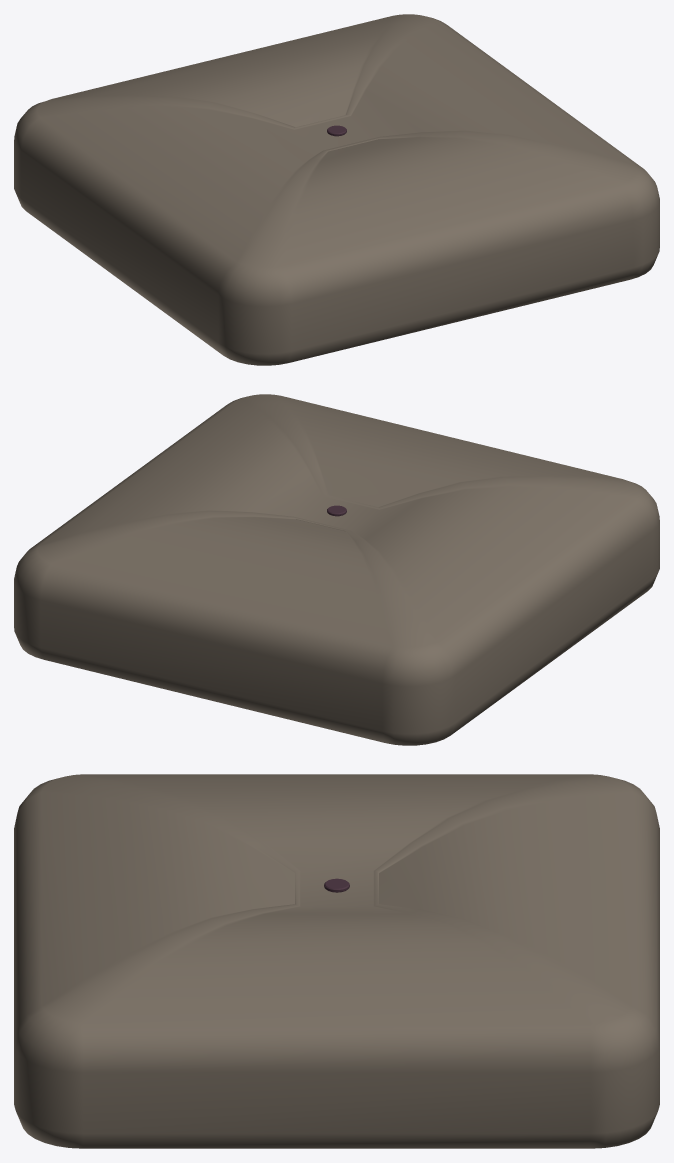
File: floor-cushion-d78f8aea1ff2.glb
3 renders of one model, top to bottom at view 1: azimuth 30°, elevation 25°; view 2: azimuth 150°, elevation 25°; view 3: azimuth 270°, elevation 25°, orthographic. The views are drawn at different scales.
Visible parts, largest first — view 1: cover-cloth; view 2: cover-cloth; view 3: cover-cloth.
Boxes of the visible parts, x1=… form: cover-cloth: x1=14, y1=14, x2=659, y2=365; cover-cloth: x1=14, y1=394, x2=659, y2=745; cover-cloth: x1=14, y1=774, x2=659, y2=1148.
Bounding box in the file's own units: 0.6005 × 0.1565 × 0.6005.
